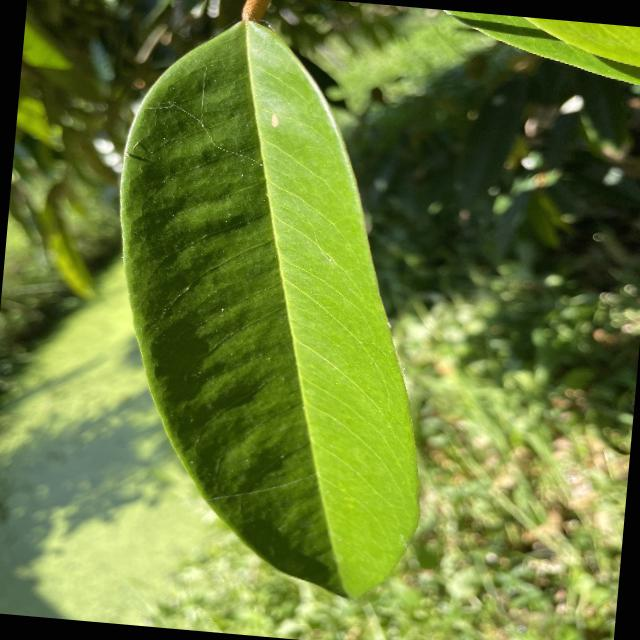No Disease: (78, 1, 470, 622)
